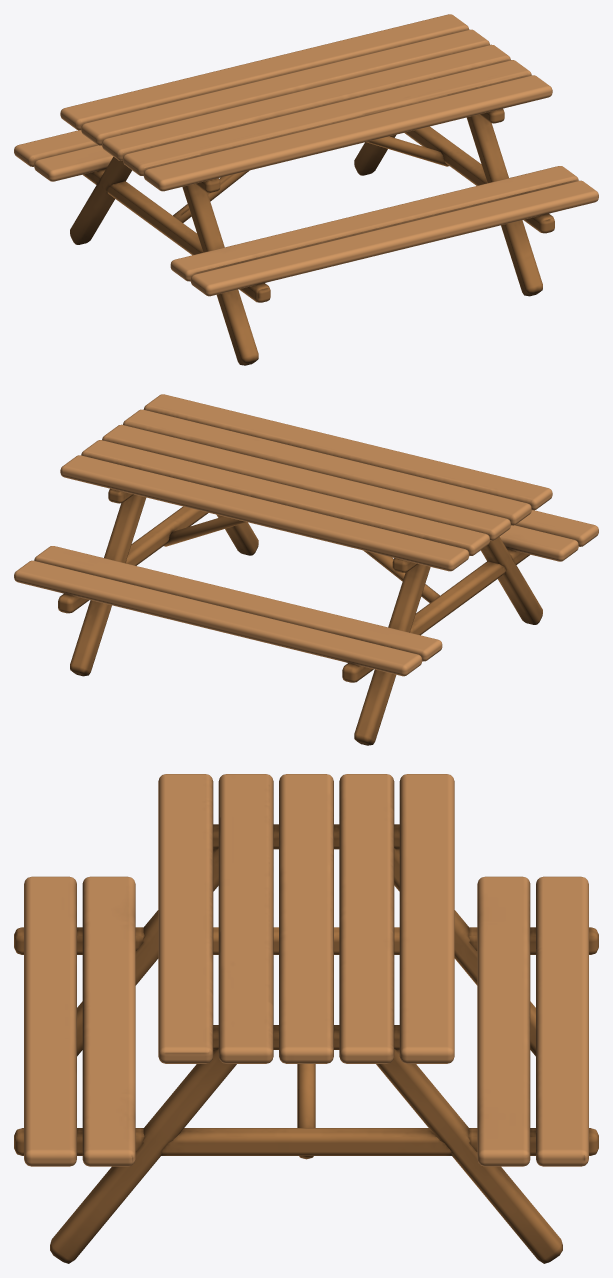
File: picnic_table.glb
The picture shows the model from 3 angles, top to bottom: view 1: azimuth 30°, elevation 25°; view 2: azimuth 150°, elevation 25°; view 3: azimuth 270°, elevation 25°; orthographic projection. The views are drawn at different scales.
Parts seen in each view (by area): view 1: picnic_table; view 2: picnic_table; view 3: picnic_table.
Boxes of the visible parts, x1=… form: picnic_table: x1=14, y1=14, x2=598, y2=365; picnic_table: x1=14, y1=394, x2=598, y2=745; picnic_table: x1=14, y1=774, x2=598, y2=1263.
Bounding box in the file's own units: 1.8 × 0.7537 × 1.6.
2 materials, 2 textured.
